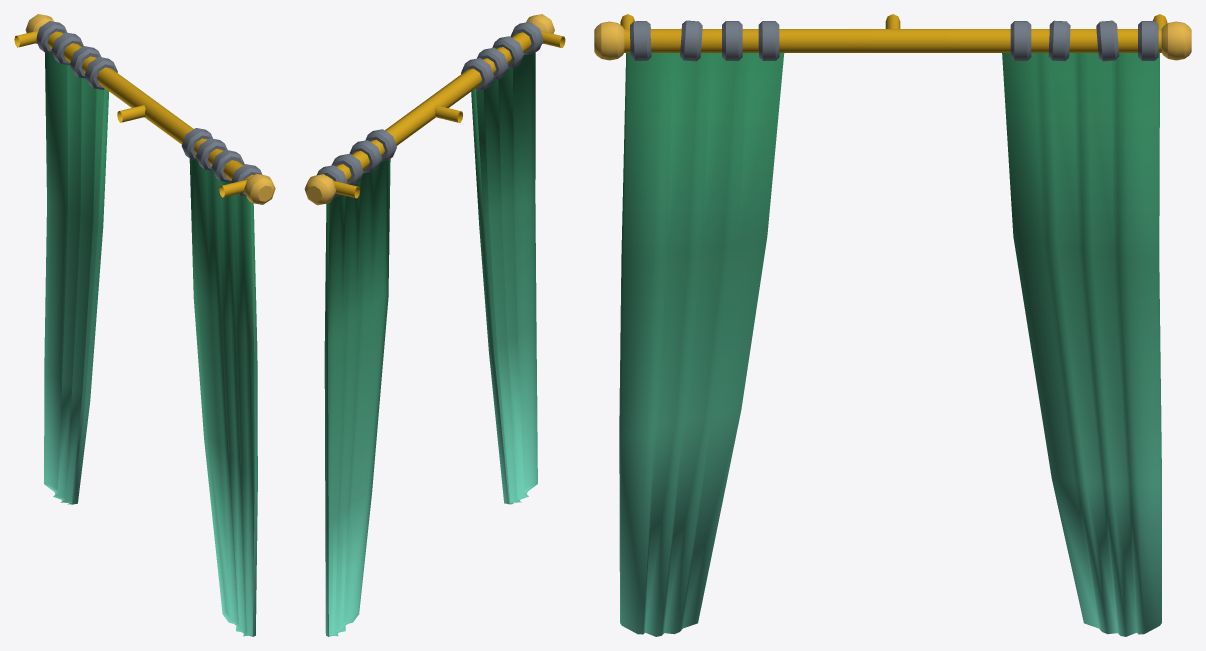
The model's file is Curtains_Long_1_A_F.glb.
3 views of the same model, side by side, from view 1: azimuth 30°, elevation 25°; view 2: azimuth 150°, elevation 25°; view 3: azimuth 270°, elevation 25° (orthographic). The views are drawn at different scales.
Parts seen in each view (by area): view 1: Curtains_Long_1_A_F; view 2: Curtains_Long_1_A_F; view 3: Curtains_Long_1_A_F.
Boxes of the visible parts, x1,y1,x2,y2 form: Curtains_Long_1_A_F: (14,14,275,636); Curtains_Long_1_A_F: (304,14,565,636); Curtains_Long_1_A_F: (594,14,1191,636).
Size of the model in its own units: 0.2268 by 2.28 by 2.02.
Materials: 2 (2 with a texture image).
